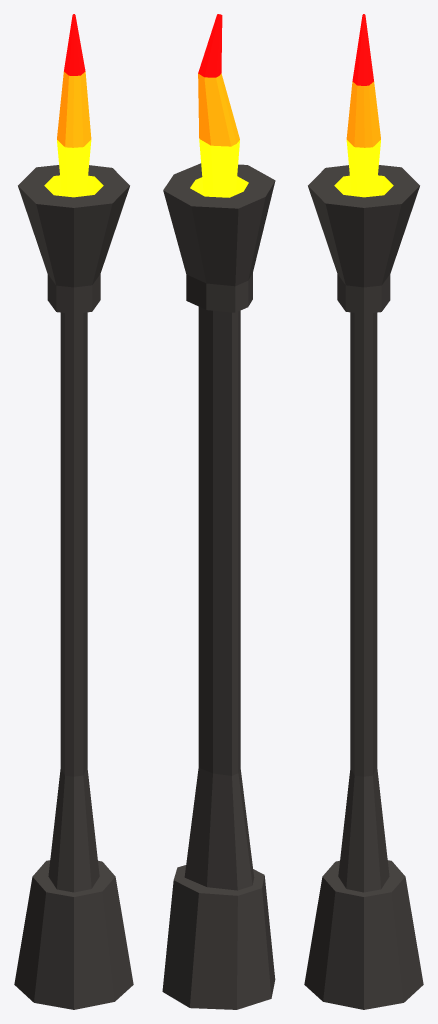
The model's file is Stone_fackel.fbx.
3 views of the same model, side by side, from view 1: azimuth 90°, elevation 25°; view 2: azimuth 150°, elevation 25°; view 3: azimuth 270°, elevation 25° (orthographic).
Parts seen in each view (by area): view 1: Stone_Fackel; view 2: Stone_Fackel; view 3: Stone_Fackel.
Boxes of the visible parts, x1,y1,x2,y2 form: Stone_Fackel: (14,14,133,1009); Stone_Fackel: (162,14,275,1009); Stone_Fackel: (304,14,423,1009).
Bounding box in the file's own units: 27.75 × 249 × 27.75.
